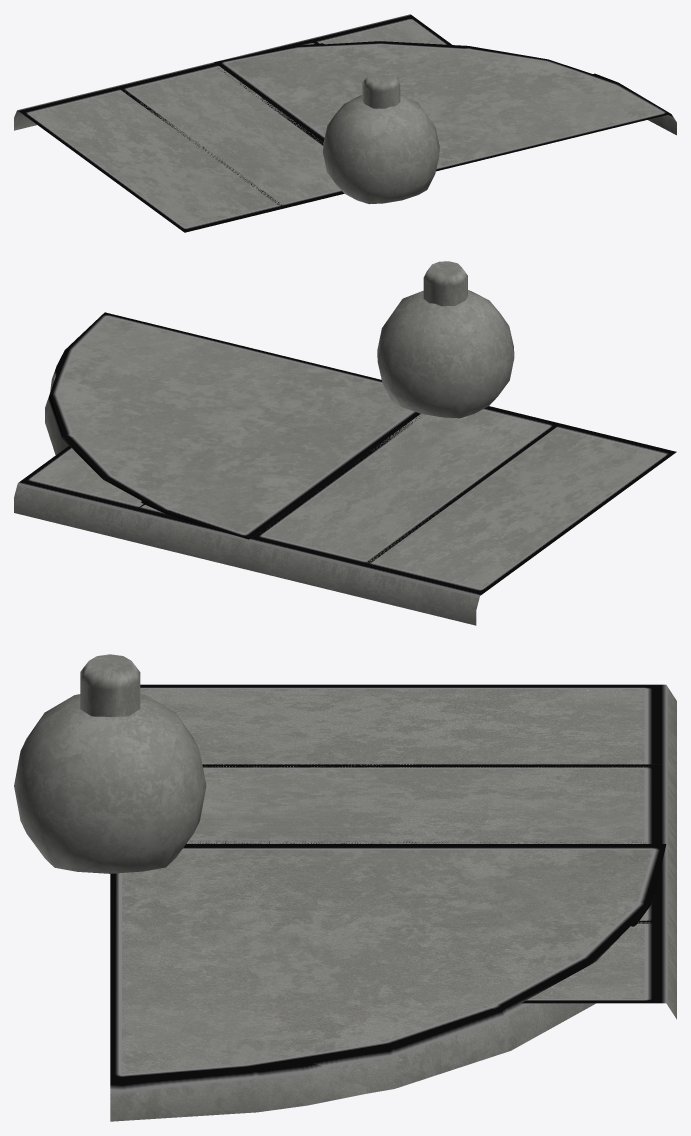
Rendered from sidewalks_mesh.fbx.
The picture shows the model from 3 angles, top to bottom: view 1: azimuth 30°, elevation 25°; view 2: azimuth 150°, elevation 25°; view 3: azimuth 270°, elevation 25°; orthographic projection. The views are drawn at different scales.
Parts seen in each view (by area): view 1: sidewalk02, sidewalkCorner, sidewalk01, sidewalkPost02, sidewalkPost; view 2: sidewalkCorner, sidewalk02, sidewalk01, sidewalkPost02, sidewalkPost; view 3: sidewalkCorner, sidewalk02, sidewalk01, sidewalkPost02, sidewalkCornerRamp, sidewalkPost.
Part boxes in pixels (box(x1,y1,x2,y2)): sidewalk02: box(14, 14, 451, 232); sidewalkCorner: box(214, 41, 676, 171); sidewalk01: box(116, 38, 342, 208); sidewalkPost02: box(323, 95, 439, 204); sidewalkPost: box(362, 70, 400, 108); sidewalkCorner: box(45, 312, 420, 539); sidewalk02: box(14, 414, 676, 625); sidewalk01: box(260, 406, 560, 597); sidewalkPost02: box(377, 290, 514, 418); sidewalkPost: box(423, 261, 467, 306); sidewalkCorner: box(110, 844, 666, 1121); sidewalk02: box(140, 684, 676, 1019); sidewalk01: box(186, 764, 676, 923); sidewalkPost02: box(14, 694, 206, 873); sidewalkCornerRamp: box(110, 902, 651, 1121); sidewalkPost: box(80, 654, 140, 716).
Bounding box in the file's own units: 501 × 128 × 352.
